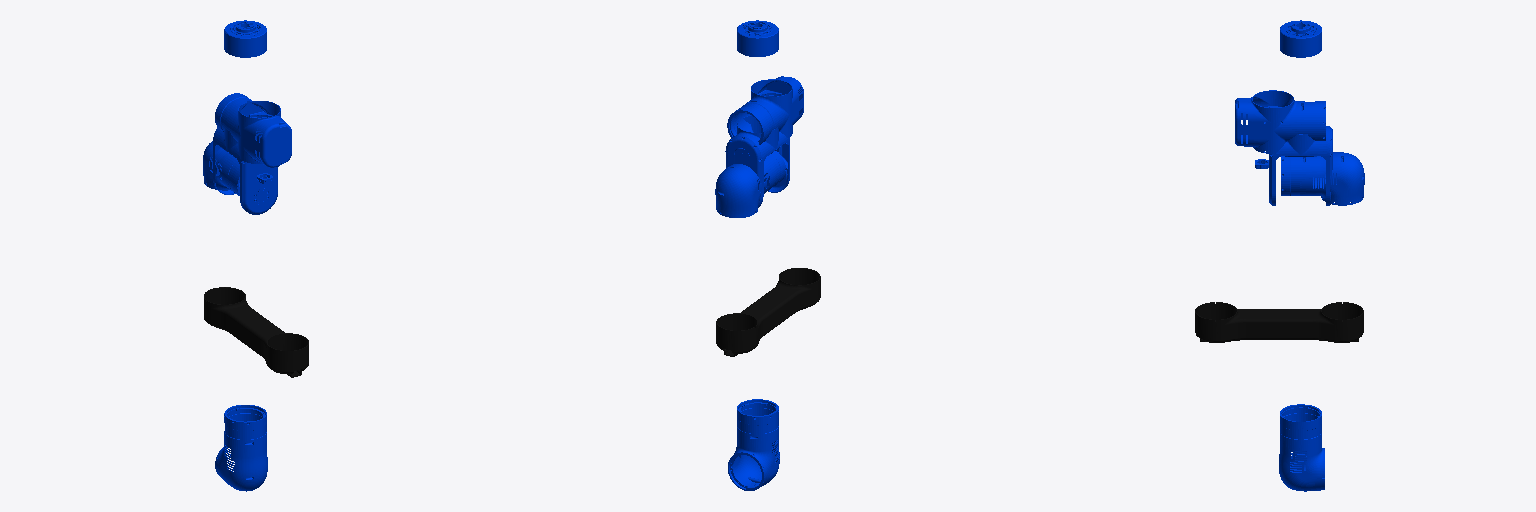
URDF robot description (relax):
<?xml version="1.0" ?>
<robot name="relax" version="1.0">
  <material name="darkblue">
    <color rgba="0.0 0.3 0.9 1.0"/>
  </material>
  <material name="dark">
    <color rgba="0.1 0.1 0.1 1.0"/>
  </material>
  <link name="relax_arm1_link1">
    <inertial>
      <origin xyz="-0.0018991406 0.022645162 0.16741297" rpy="0 0 0"/>
      <mass value="6.2381702"/>
      <inertia ixx="0.065816037" ixy="-0.00011791629" ixz="-4.0067927e-05" iyy="0.057828314" iyz="-0.011584403" izz="0.01940196"/>
    </inertial>
    <visual>
      <origin xyz="0.0 0.0 0.0" rpy="0.0 0.0 0.0"/>
      <geometry>
        <mesh filename="package://relax_urdf/meshes/mesh_link1.stl" scale="0.001 0.001 0.001"/>
      </geometry>
      <material name="darkblue"/>
    </visual>
    <collision>
      <origin xyz="1.27448e-05 0.0080130685 0.18331350000000002" rpy="3.026920884699987 0.0003566849008104247 0.00621413308723434"/>
      <geometry>
        <cylinder radius="0.0915579" length="0.13791276538840705"/>
      </geometry>
    </collision>
    <collision>
      <origin xyz="-0.000012 0.015903 0.251817" rpy="3.026920884699987 0.0003566849008104247 0.00621413308723434"/>
      <geometry>
        <sphere radius="0.0915579"/>
      </geometry>
    </collision>
    <collision>
      <origin xyz="0.000037 0.000123 0.114810" rpy="3.026920884699987 0.0003566849008104247 0.00621413308723434"/>
      <geometry>
        <sphere radius="0.0915579"/>
      </geometry>
    </collision>
  </link>
  <link name="relax_arm1_link2">
    <inertial>
      <origin xyz="-3.1494342e-05 -0.20005579 -0.0057041875" rpy="0 0 0"/>
      <mass value="2.601371"/>
      <inertia ixx="0.064570453" ixy="-0.00019926537999999998" ixz="-1.6866045999999998e-06" iyy="0.0051512542" iyz="-2.9627309e-06" izz="0.06672465300000001"/>
    </inertial>
    <visual>
      <origin xyz="0.0 0.0 0.0" rpy="0.0 0.0 0.0"/>
      <geometry>
        <mesh filename="package://relax_urdf/meshes/mesh_link2.stl" scale="0.001 0.001 0.001"/>
      </geometry>
      <material name="dark"/>
    </visual>
    <collision>
      <origin xyz="6.627765e-09 -0.2000087888 -0.0145835" rpy="-1.570798825542884 -7.62859514660638e-08 7.628614208566964e-08"/>
      <geometry>
        <cylinder radius="0.0779127" length="0.4002004224012504"/>
      </geometry>
    </collision>
    <collision>
      <origin xyz="0.000000 -0.400109 -0.014583" rpy="-1.570798825542884 -7.62859514660638e-08 7.628614208566964e-08"/>
      <geometry>
        <sphere radius="0.0779127"/>
      </geometry>
    </collision>
    <collision>
      <origin xyz="-0.000000 0.000091 -0.014584" rpy="-1.570798825542884 -7.62859514660638e-08 7.628614208566964e-08"/>
      <geometry>
        <sphere radius="0.0779127"/>
      </geometry>
    </collision>
  </link>
  <link name="relax_arm1_link3">
    <inertial>
      <origin xyz="0.0020858498 -0.078452653 -0.10797347" rpy="0 0 0"/>
      <mass value="5.9482803"/>
      <inertia ixx="0.062877846" ixy="0.00011665783" ixz="0.00012931181" iyy="0.018390664" iyz="-0.011034081" izz="0.055056825999999996"/>
    </inertial>
    <visual>
      <origin xyz="0.0 0.0 0.0" rpy="0.0 0.0 0.0"/>
      <geometry>
        <mesh filename="package://relax_urdf/meshes/mesh_link3.stl" scale="0.001 0.001 0.001"/>
      </geometry>
      <material name="darkblue"/>
    </visual>
    <collision>
      <origin xyz="2.628750000000001e-06 -0.06550102000000001 -0.1240435" rpy="-1.4622056613977197 0.00023368259885343988 -0.00020959122120104543"/>
      <geometry>
        <cylinder radius="0.0921787" length="0.1380269667138794"/>
      </geometry>
    </collision>
    <collision>
      <origin xyz="-0.000013 -0.134108 -0.131523" rpy="-1.4622056613977197 0.00023368259885343988 -0.00020959122120104543"/>
      <geometry>
        <sphere radius="0.0921787"/>
      </geometry>
    </collision>
    <collision>
      <origin xyz="0.000019 0.003106 -0.116564" rpy="-1.4622056613977197 0.00023368259885343988 -0.00020959122120104543"/>
      <geometry>
        <sphere radius="0.0921787"/>
      </geometry>
    </collision>
  </link>
  <link name="relax_arm1_link4">
    <inertial>
      <origin xyz="0.00096471566 -0.0042586853 0.046169896" rpy="0 0 0"/>
      <mass value="1.6710337"/>
      <inertia ixx="0.017329393999999998" ixy="0.00021094011" ixz="-0.00024511391" iyy="0.010036060999999999" iyz="0.00042230531" izz="0.012350325"/>
    </inertial>
    <visual>
      <origin xyz="0.0 0.0 0.0" rpy="0.0 0.0 0.0"/>
      <geometry>
        <mesh filename="package://relax_urdf/meshes/mesh_link4.stl" scale="0.001 0.001 0.001"/>
      </geometry>
      <material name="darkblue"/>
    </visual>
    <collision>
      <origin xyz="3.900474999999999e-06 2.995635e-06 0.08748095" rpy="-6.579347097687788e-05 0.00011540250586511395 -3.796365715055323e-09"/>
      <geometry>
        <cylinder radius="0.115074" length="0.1319941011646182"/>
      </geometry>
    </collision>
    <collision>
      <origin xyz="-0.000004 -0.000001 0.021484" rpy="-6.579347097687788e-05 0.00011540250586511395 -3.796365715055323e-09"/>
      <geometry>
        <sphere radius="0.115074"/>
      </geometry>
    </collision>
    <collision>
      <origin xyz="0.000012 0.000007 0.153478" rpy="-6.579347097687788e-05 0.00011540250586511395 -3.796365715055323e-09"/>
      <geometry>
        <sphere radius="0.115074"/>
      </geometry>
    </collision>
  </link>
  <link name="relax_arm1_link5">
    <inertial>
      <origin xyz="-0.0013991722 0.052618238 -0.08425954199999999" rpy="0 0 0"/>
      <mass value="6.181102"/>
      <inertia ixx="0.059736008" ixy="-0.00014975682" ixz="-5.2815066e-05" iyy="0.015244194999999999" iyz="0.0011994937999999999" izz="0.055701504"/>
    </inertial>
    <visual>
      <origin xyz="0.0 0.0 0.0" rpy="0.0 0.0 0.0"/>
      <geometry>
        <mesh filename="package://relax_urdf/meshes/mesh_link5.stl" scale="0.001 0.001 0.001"/>
      </geometry>
      <material name="darkblue"/>
    </visual>
    <collision>
      <origin xyz="4.59689e-05 0.023164550000000002 -0.08812225" rpy="-1.569142743279265 0.001909333046753714 -0.0019061784145204248"/>
      <geometry>
        <cylinder radius="0.104678" length="0.13080711726714422"/>
      </geometry>
    </collision>
    <collision>
      <origin xyz="-0.000079 -0.042239 -0.088230" rpy="-1.569142743279265 0.001909333046753714 -0.0019061784145204248"/>
      <geometry>
        <sphere radius="0.104678"/>
      </geometry>
    </collision>
    <collision>
      <origin xyz="0.000171 0.088568 -0.088014" rpy="-1.569142743279265 0.001909333046753714 -0.0019061784145204248"/>
      <geometry>
        <sphere radius="0.104678"/>
      </geometry>
    </collision>
  </link>
  <link name="relax_arm1_link6">
    <inertial>
      <origin xyz="0.0005687903199999999 0.0 0.0022653642000000002" rpy="0 0 0"/>
      <mass value="0.48141935"/>
      <inertia ixx="0.0008220642" ixy="1.0675057e-07" ixz="3.5319177e-07" iyy="0.00083596992" iyz="0.0" izz="0.0012890535"/>
    </inertial>
    <visual>
      <origin xyz="0.0 0.0 0.0" rpy="0.0 0.0 0.0"/>
      <geometry>
        <mesh filename="package://relax_urdf/meshes/mesh_link6.stl" scale="0.001 0.001 0.001"/>
      </geometry>
      <material name="darkblue"/>
    </visual>
    <collision>
      <origin xyz="2.333865e-07 -5.2943999999999994e-09 -0.02024995" rpy="0.0 1.5707963267948966 -0.0"/>
      <geometry>
        <cylinder radius="0.0752452" length="5.659878616105297e-07"/>
      </geometry>
    </collision>
    <collision>
      <origin xyz="-0.000000 -0.000000 -0.020250" rpy="0.0 1.5707963267948966 -0.0"/>
      <geometry>
        <sphere radius="0.0752452"/>
      </geometry>
    </collision>
    <collision>
      <origin xyz="0.000001 -0.000000 -0.020250" rpy="0.0 1.5707963267948966 -0.0"/>
      <geometry>
        <sphere radius="0.0752452"/>
      </geometry>
    </collision>
  </link>
  <link name="relax_arm1_linkEndEffector"/>
  <joint name="relax_arm1_joint0" type="revolute">
    <origin xyz="-0.13 0.0 0.3613" rpy="0.0 0.0 0.0"/>
    <axis xyz="0.0 0.0 1.0"/>
    <parent link="base_link"/>
    <child link="relax_arm1_link1"/>
    <limit effort="147.0" lower="-3.14" upper="3.14" velocity="3.86"/>
    <dynamics damping="0.2" friction="10.0"/>
  </joint>
  <joint name="relax_arm1_joint1" type="revolute">
    <origin xyz="0.0 0.13166 0.24966" rpy="-1.5707963 0.0 0.0"/>
    <axis xyz="0.0 0.0 1.0"/>
    <parent link="relax_arm1_link1"/>
    <child link="relax_arm1_link2"/>
    <limit effort="147.0" lower="-3.14" upper="3.14" velocity="3.86"/>
    <dynamics damping="0.2" friction="10.0"/>
  </joint>
  <joint name="relax_arm1_joint2" type="revolute">
    <origin xyz="0.0 -0.4 0.0" rpy="0.0 0.0 0.0"/>
    <axis xyz="0.0 0.0 1.0"/>
    <parent link="relax_arm1_link2"/>
    <child link="relax_arm1_link3"/>
    <limit effort="147.0" lower="-3.14" upper="3.14" velocity="3.86"/>
    <dynamics damping="0.2" friction="10.0"/>
  </joint>
  <joint name="relax_arm1_joint3" type="revolute">
    <origin xyz="0.0 -0.24966 -0.13166" rpy="1.5707963 0.0 0.0"/>
    <axis xyz="0.0 0.0 1.0"/>
    <parent link="relax_arm1_link3"/>
    <child link="relax_arm1_link4"/>
    <limit effort="147.0" lower="-3.14" upper="3.14" velocity="3.86"/>
    <dynamics damping="0.2" friction="10.0"/>
  </joint>
  <joint name="relax_arm1_joint4" type="revolute">
    <origin xyz="0.0 -0.08816 0.1535" rpy="1.5707963 0.0 0.0"/>
    <axis xyz="0.0 0.0 1.0"/>
    <parent link="relax_arm1_link4"/>
    <child link="relax_arm1_link5"/>
    <limit effort="147.0" lower="-3.14" upper="3.14" velocity="3.86"/>
    <dynamics damping="0.2" friction="10.0"/>
  </joint>
  <joint name="relax_arm1_joint5" type="revolute">
    <origin xyz="0.0 0.22216 -0.08816" rpy="-1.5707963 0.0 0.0"/>
    <axis xyz="0.0 0.0 1.0"/>
    <parent link="relax_arm1_link5"/>
    <child link="relax_arm1_link6"/>
    <limit effort="147.0" lower="-3.14" upper="3.14" velocity="3.86"/>
    <dynamics damping="0.2" friction="10.0"/>
  </joint>
  <joint name="relax_arm1_joint6" type="fixed">
    <origin xyz="0.0 0.0 0.028" rpy="0.0 0.0 0.0"/>
    <axis xyz="0.0 0.0 1.0"/>
    <parent link="relax_arm1_link6"/>
    <child link="relax_arm1_linkEndEffector"/>
    <limit effort="147.0" lower="-3.14" upper="3.14" velocity="3.86"/>
    <dynamics damping="0.2" friction="10.0"/>
  </joint>
  <link name="base_link">
    <inertial>
      <origin xyz="-0.054485000000000006 0.0 0.15" rpy="0.0 0.0 0.0"/>
      <mass value="97.0"/>
      <inertia ixx="1.050832913" ixy="0.0" ixz="0.0" iyy="2.344165729" iyz="0.0" izz="2.7483322339999994"/>
    </inertial>
    <visual>
      <origin xyz="-0.004485 0.0 0.0" rpy="0.0 0.0 0.0"/>
      <geometry>
        <mesh filename="package://relax_urdf/meshes/mesh_base_revised.stl" scale="0.001 0.001 0.001"/>
      </geometry>
      <material name="dark_grey">
        <color rgba="0.3 0.3 0.3 1.0"/>
      </material>
    </visual>
    <collision>
      <origin xyz="0.0 5.9102329999999995e-08 0.218567" rpy="-1.5707963265650648 1.5707960603723925 -1.5707960601425608"/>
      <geometry>
        <cylinder radius="0.319357" length="0.4739740000000168"/>
      </geometry>
    </collision>
    <collision>
      <origin xyz="-0.236987 -0.000000 0.218567" rpy="-1.5707963265650648 1.5707960603723925 -1.5707960601425608"/>
      <geometry>
        <sphere radius="0.319357"/>
      </geometry>
    </collision>
    <collision>
      <origin xyz="0.236987 0.000000 0.218567" rpy="-1.5707963265650648 1.5707960603723925 -1.5707960601425608"/>
      <geometry>
        <sphere radius="0.319357"/>
      </geometry>
    </collision>
  </link>
  <gazebo reference="base_link">
    <material>Gazebo/DarkGrey</material>
  </gazebo>
</robot>

--- Render facts (derived) ---
3 views of the same robot in one strip: view 1: azimuth 30°, elevation 25°; view 2: azimuth 150°, elevation 25°; view 3: azimuth 270°, elevation 25° (orthographic).
Model relax with 8 links and 7 joints (6 revolute, 1 fixed), rooted at base_link, posed every joint at zero.
Links seen in each view (by area): view 1: relax_arm1_link2, relax_arm1_link5, relax_arm1_link1, relax_arm1_link4, relax_arm1_link6, relax_arm1_link3; view 2: relax_arm1_link2, relax_arm1_link1, relax_arm1_link5, relax_arm1_link3, relax_arm1_link4, relax_arm1_link6; view 3: relax_arm1_link2, relax_arm1_link5, relax_arm1_link1, relax_arm1_link3, relax_arm1_link4, relax_arm1_link6.
Boxes of the visible links, <box> form: relax_arm1_link2: <box>204,287,308,377</box>; relax_arm1_link5: <box>215,93,291,167</box>; relax_arm1_link1: <box>215,405,267,491</box>; relax_arm1_link4: <box>213,127,277,214</box>; relax_arm1_link6: <box>224,20,266,57</box>; relax_arm1_link3: <box>203,141,239,195</box>; relax_arm1_link2: <box>716,268,820,356</box>; relax_arm1_link1: <box>728,399,779,490</box>; relax_arm1_link5: <box>727,76,803,144</box>; relax_arm1_link3: <box>715,151,785,217</box>; relax_arm1_link4: <box>725,116,789,207</box>; relax_arm1_link6: <box>737,20,778,56</box>; relax_arm1_link2: <box>1195,302,1363,342</box>; relax_arm1_link5: <box>1235,90,1325,153</box>; relax_arm1_link1: <box>1279,404,1324,491</box>; relax_arm1_link3: <box>1281,152,1364,205</box>; relax_arm1_link4: <box>1255,126,1332,205</box>; relax_arm1_link6: <box>1280,20,1321,57</box>.
Size in the robot's own frame: 0.136 by 0.5382 by 1.62 metres.
6 mesh visuals loaded from 7 distinct referenced files (6 binary STL); not drawn: 1 (reference not matched to a file when rendering).